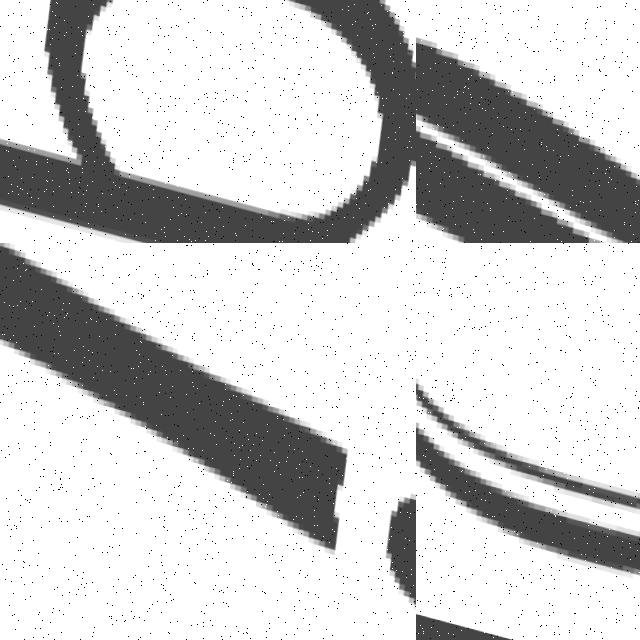0: (416, 243, 640, 640)
D: (416, 0, 640, 243)
I: (0, 243, 416, 637)
Q: (0, 0, 416, 243)
